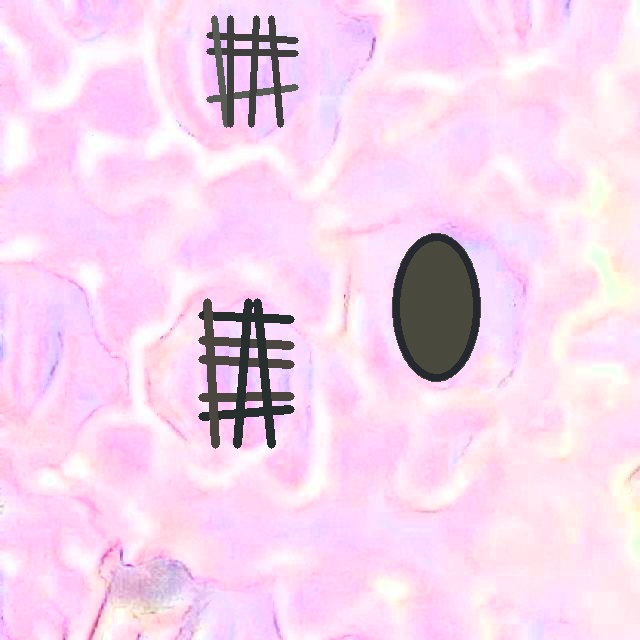open: (198, 299, 294, 448), (392, 232, 481, 382), (206, 15, 298, 127)
